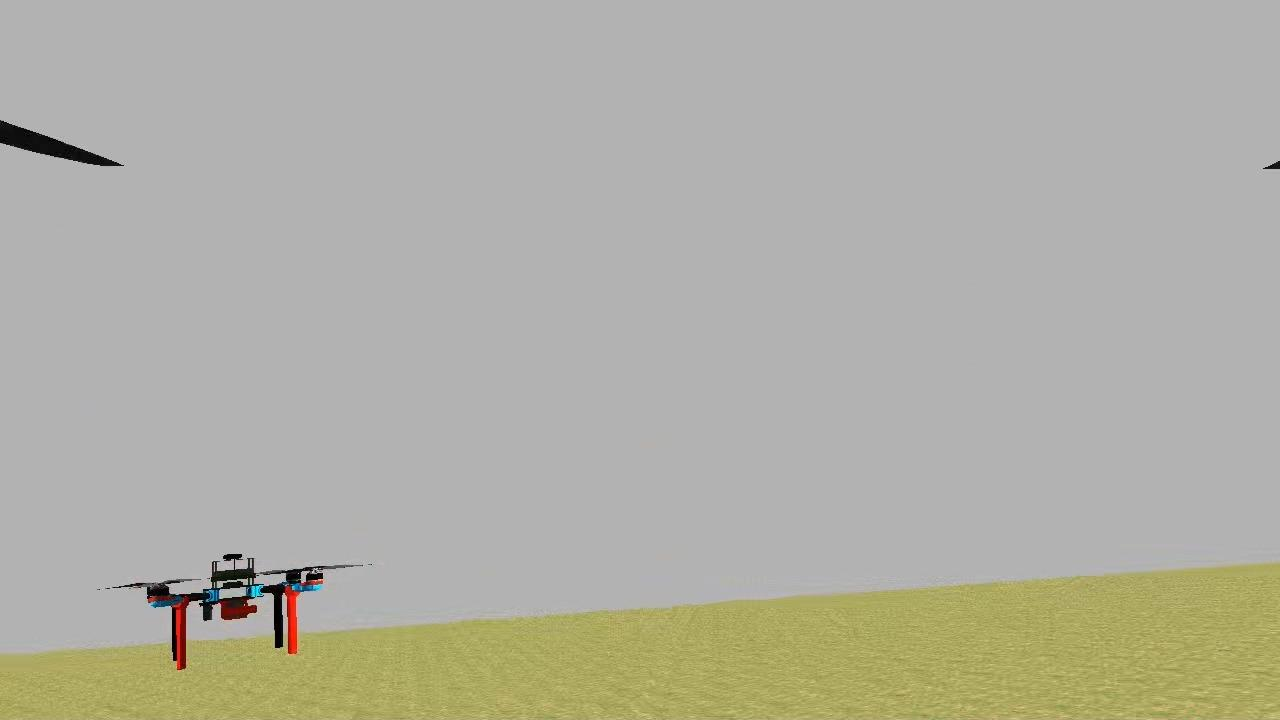UAV: (138, 542, 332, 676)
